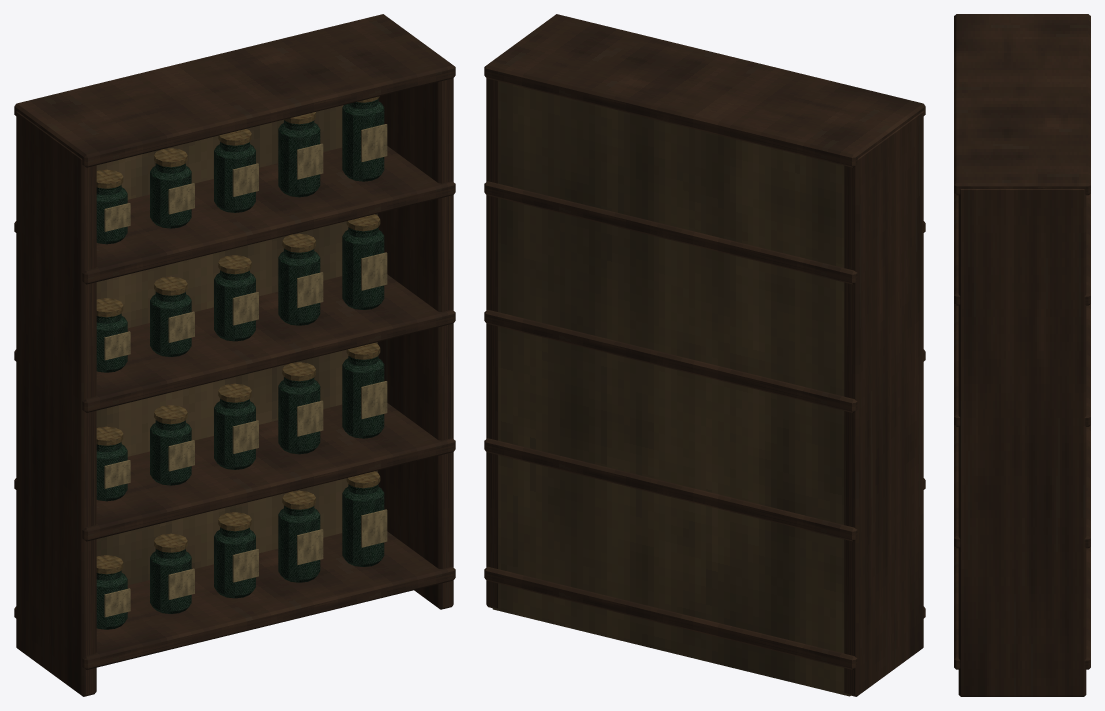
The model's file is level_lived_pantry_worn.glb.
3 views of the same model, side by side, from view 1: azimuth 30°, elevation 25°; view 2: azimuth 150°, elevation 25°; view 3: azimuth 270°, elevation 25° (orthographic). The views are drawn at different scales.
Visible parts, largest first — view 1: level_lived_pantry_worn; view 2: level_lived_pantry_worn; view 3: level_lived_pantry_worn.
Part boxes in pixels (bbox=[...]): level_lived_pantry_worn: bbox=[14, 14, 455, 696]; level_lived_pantry_worn: bbox=[484, 14, 925, 696]; level_lived_pantry_worn: bbox=[954, 14, 1090, 696].
Size of the model in its own units: 1.33 by 1.86 by 0.45.
Materials: 5 (5 with a texture image).
